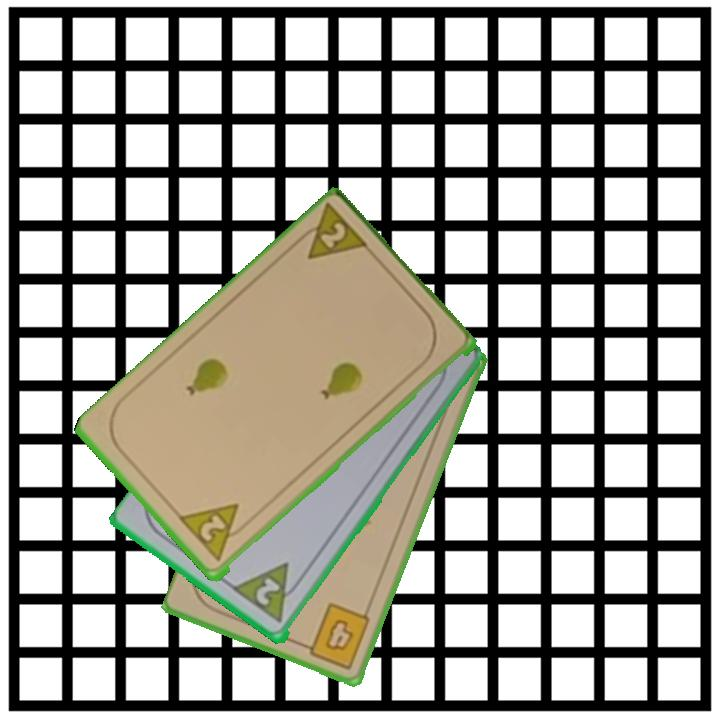2p: (289, 202, 373, 264), (176, 500, 253, 565), (252, 574, 283, 610)
4b: (297, 599, 374, 672)
